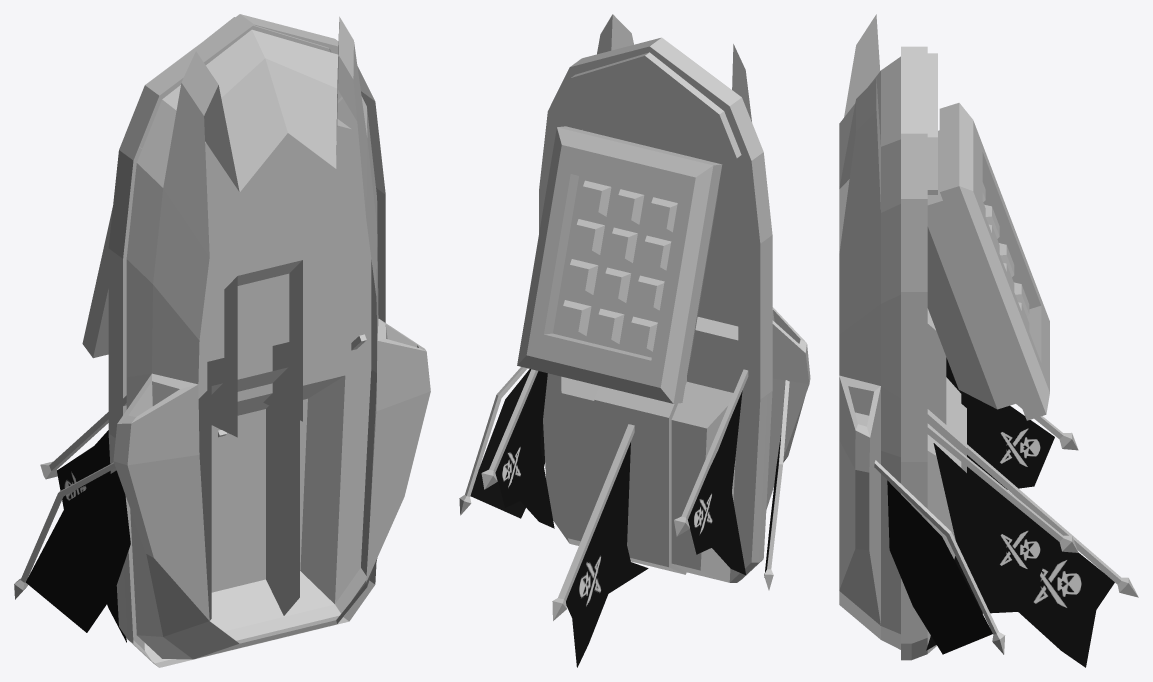
Rendered from pirate_multi_my_4.fbx.
The picture shows the model from 3 angles, left to right: view 1: azimuth 30°, elevation 25°; view 2: azimuth 150°, elevation 25°; view 3: azimuth 270°, elevation 25°; orthographic projection. The views are drawn at different scales.
Parts seen in each view (by area): view 1: Cube.356; view 2: Cube.356; view 3: Cube.356.
Boxes of the visible parts, x1=… form: Cube.356: x1=14, y1=14, x2=430, y2=667; Cube.356: x1=459, y1=14, x2=810, y2=667; Cube.356: x1=839, y1=14, x2=1138, y2=667.
Size of the model in its own units: 415 by 718 by 314.
